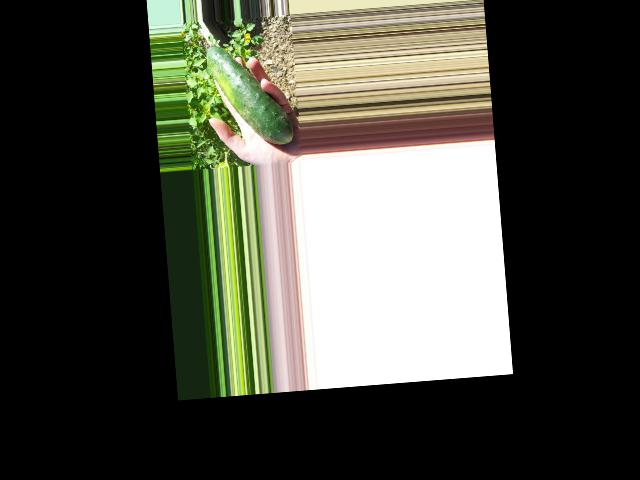cucumber: (206, 39, 293, 149)
